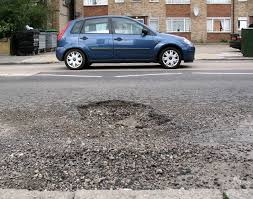pothole: (65, 92, 175, 136)
